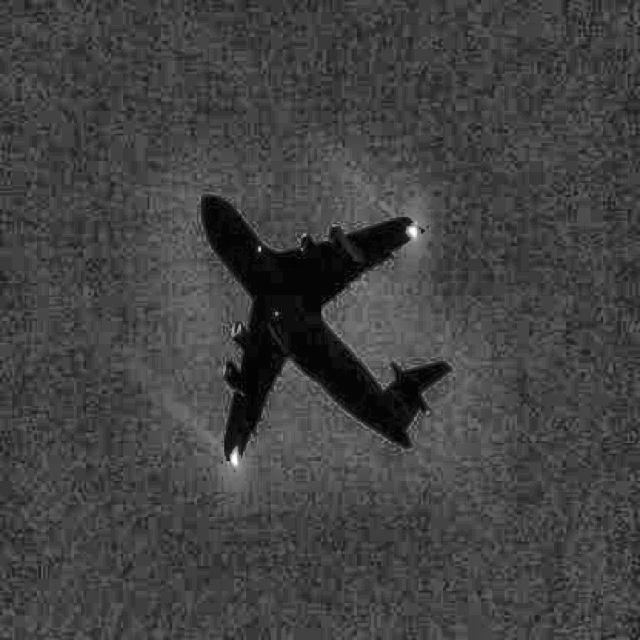C5: (200, 194, 452, 474)
